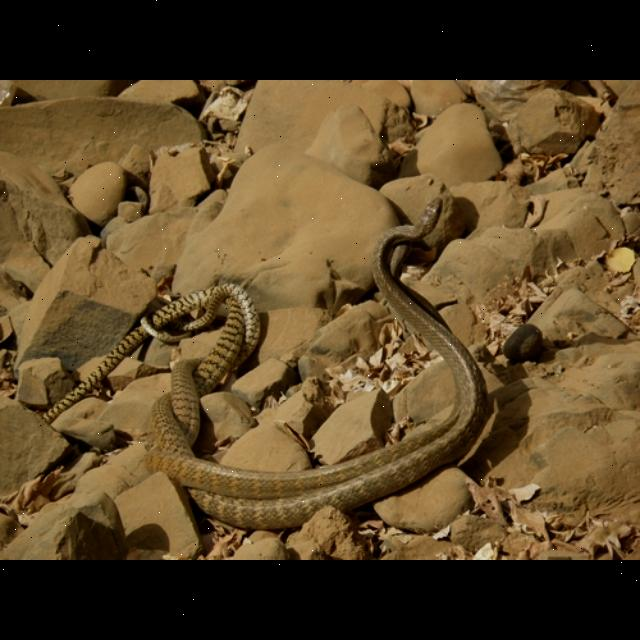snake: (39, 187, 493, 527)
